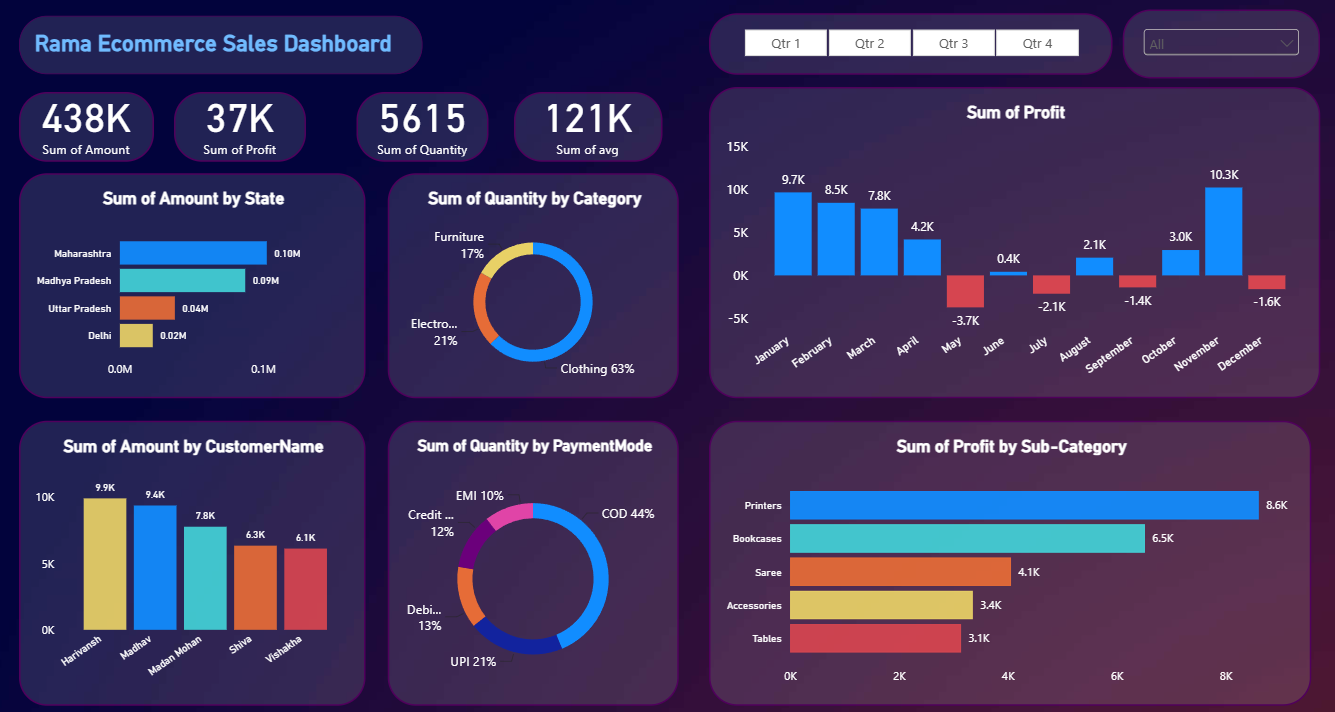

Layout of this report page (visuals, bound fields, positions):
{"tool":"powerbi","page":{"name":"Page 1","canvas":[1920,1080],"ordinal":0},"visuals":[{"type":"textbox","box":[26.7,20,430.7,62.7],"z":0},{"type":"columnChart","title":"Sum of Profit","fields":{"Category":["Orders.Order Date.Variation.Date Hierarchy.Month"],"Y":["Sum(Details.Profit)"]},"box":[762.7,96,652,332],"z":1000},{"type":"barChart","fields":{"Category":["Details.Sub-Category"],"Y":["Sum(Details.Profit)"]},"box":[762.7,452,642.7,304],"z":2000},{"type":"donutChart","fields":{"Category":["Details.Category"],"Y":["Sum(Details.Quantity)"]},"box":[420,188,310.7,240],"z":3000},{"type":"donutChart","fields":{"Category":["Details.PaymentMode"],"Y":["Sum(Details.Quantity)"]},"box":[420,452,310.7,304],"z":4000},{"type":"cardVisual","fields":{"Data":["Sum(Details.Amount)"]},"box":[26.7,101.3,144,74.7],"z":5000},{"type":"cardVisual","fields":{"Data":["Sum(Details.Quantity)"]},"box":[386.7,101.3,141.1,74.4],"z":6000},{"type":"cardVisual","fields":{"Data":["Sum(Details.Profit)"]},"box":[192,101.3,141.1,74.4],"z":7000},{"type":"cardVisual","fields":{"Data":["Sum(Details.avg)"]},"box":[554.7,101.3,158.7,74.7],"z":8000},{"type":"barChart","fields":{"Category":["Orders.State"],"Y":["Sum(Details.Amount)"]},"box":[26.7,188,369.3,240],"z":9000},{"type":"columnChart","fields":{"Category":["Orders.CustomerName"],"Y":["Sum(Details.Amount)"]},"box":[26.7,452,369.3,304],"z":9001},{"type":"slicer","fields":{"Values":["Orders.Order Date.Variation.Date Hierarchy.Quarter"]},"box":[762.7,17.3,430.7,65.3],"z":9002},{"type":"slicer","fields":{"Values":["Orders.State"]},"box":[1204,13.3,210.7,73.3],"z":9003}]}

Visuals, with their boxes on the page's 1920x1080 design canvas (x1, y1, x2, y2). These are canvas units, not pixel positions in the 1335x712 screenshot, which may show the page scaled, cropped or inside an application window:
textbox: <bbox>27, 20, 457, 83</bbox>
"Sum of Profit" columnChart: <bbox>763, 96, 1415, 428</bbox>
barChart - Details.Sub-Category x Sum(Details.Profit): <bbox>763, 452, 1405, 756</bbox>
donutChart - Details.Category x Sum(Details.Quantity): <bbox>420, 188, 731, 428</bbox>
donutChart - Details.PaymentMode x Sum(Details.Quantity): <bbox>420, 452, 731, 756</bbox>
cardVisual - Sum(Details.Amount): <bbox>27, 101, 171, 176</bbox>
cardVisual - Sum(Details.Quantity): <bbox>387, 101, 528, 176</bbox>
cardVisual - Sum(Details.Profit): <bbox>192, 101, 333, 176</bbox>
cardVisual - Sum(Details.avg): <bbox>555, 101, 713, 176</bbox>
barChart - Orders.State x Sum(Details.Amount): <bbox>27, 188, 396, 428</bbox>
columnChart - Orders.CustomerName x Sum(Details.Amount): <bbox>27, 452, 396, 756</bbox>
slicer - Orders.Order Date.Variation.Date Hierarchy.Quarter: <bbox>763, 17, 1193, 83</bbox>
slicer - Orders.State: <bbox>1204, 13, 1415, 87</bbox>
